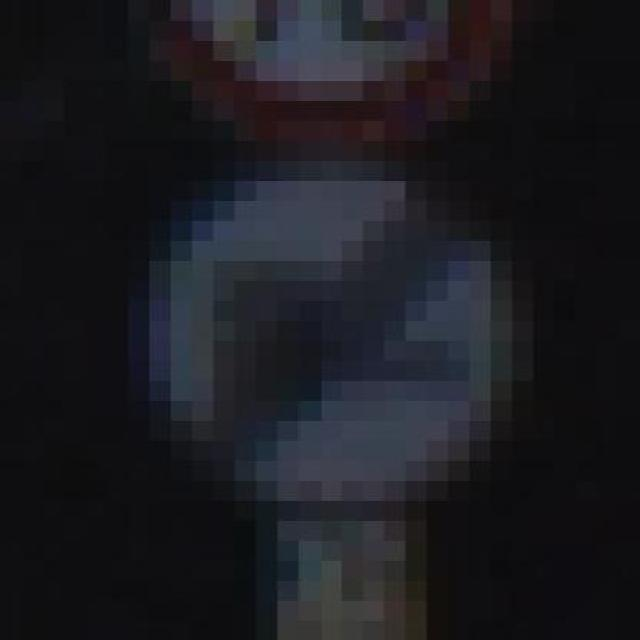Overtaking by trucks is prohibited: (86, 140, 620, 540)
